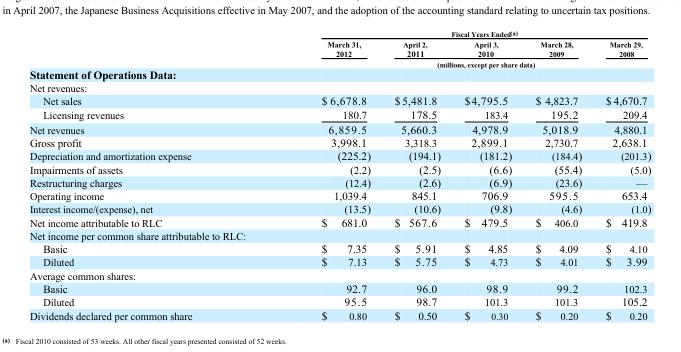table: (28, 28, 650, 321)
table column: (28, 28, 256, 321), (256, 28, 381, 321), (451, 28, 523, 321), (381, 28, 451, 321), (523, 28, 593, 321), (593, 28, 650, 321)
table column header: (28, 28, 650, 67)
table projected row header: (28, 67, 650, 81), (28, 228, 650, 241), (28, 268, 650, 281), (28, 81, 650, 93)
table row: (28, 38, 650, 59), (28, 67, 650, 81), (28, 93, 650, 107), (28, 107, 650, 121), (28, 121, 650, 135), (28, 148, 650, 162), (28, 201, 650, 215), (28, 241, 650, 255), (28, 294, 650, 308), (28, 135, 650, 148), (28, 162, 650, 175), (28, 175, 650, 188), (28, 188, 650, 201), (28, 215, 650, 228), (28, 228, 650, 241), (28, 255, 650, 268), (28, 268, 650, 281), (28, 281, 650, 294), (28, 308, 650, 321), (28, 81, 650, 93), (28, 28, 650, 38), (28, 59, 650, 67)
table spanning cell: (256, 28, 650, 38), (256, 38, 381, 67), (381, 59, 593, 67), (593, 38, 650, 67)
